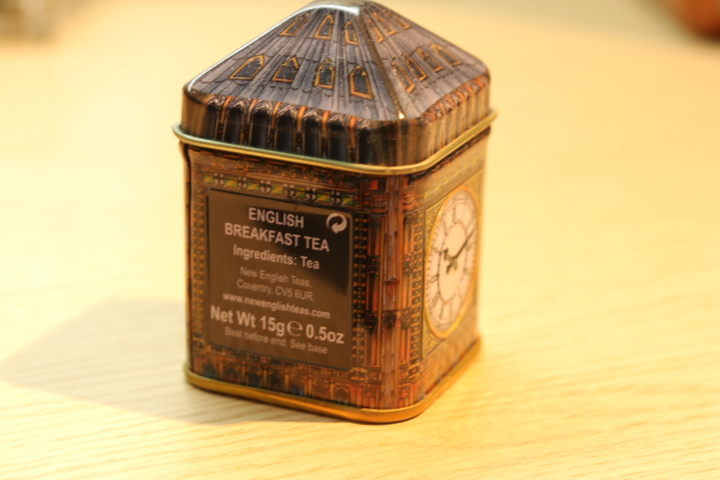Big Ben: (158, 1, 509, 439)
